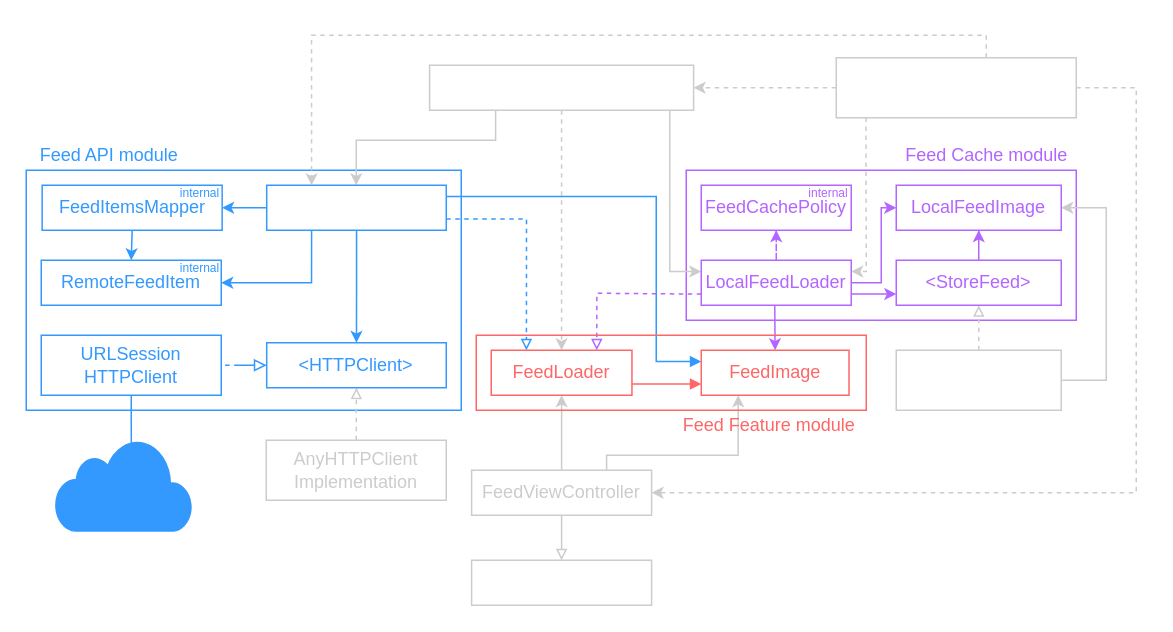
The diagram is 1173 pixels wide and 632 high, and some of its shapes have lost their labels. The shapes that lost their labels are listed below. From the top down, each one's box as (x1, y1, x2, y2) in pixels, then its label:
(428, 64, 694, 110): RemoteWithLocalFeedLoader
(835, 56, 1076, 118): Feed Assembler/Builder/Factory
(265, 184, 446, 230): RemoteFeedLoader
(895, 349, 1061, 410): AnyStoreFeed Implementation
(54, 438, 192, 531): Feed backend
(470, 559, 652, 605): UIViewController
